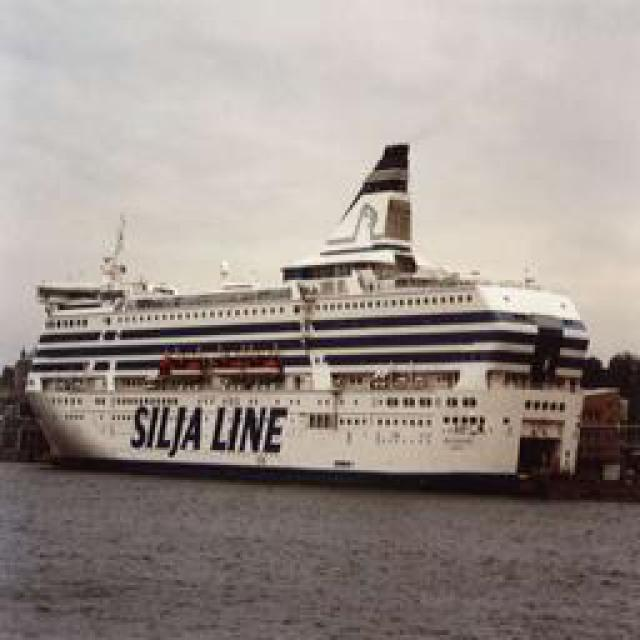Ship: (25, 139, 603, 499)
